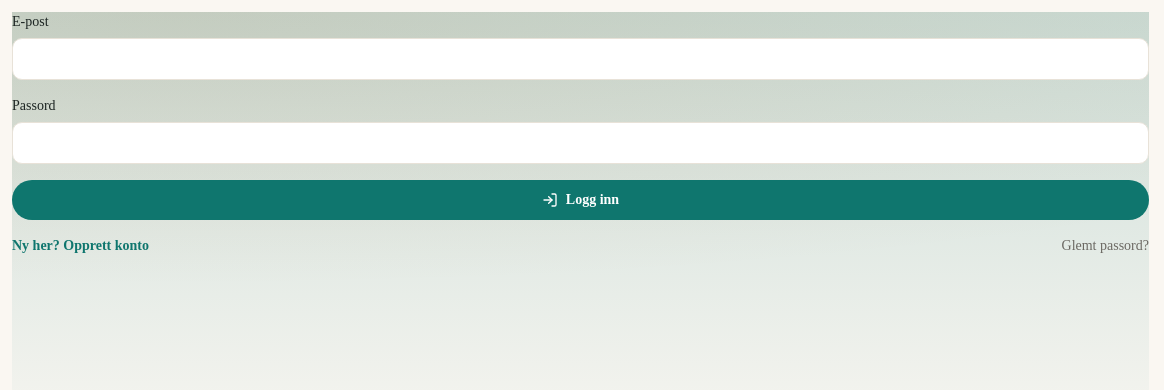
Test: EmailAuthForm › switches between signing in and signing up without losing the page
Expected: the button "Logg inn" is shown, x1=12 y1=180 x2=1149 y2=220
Click the button "Ny her? Opprett konto".
click(80, 246)  # box x1=12 y1=236 x2=149 y2=256
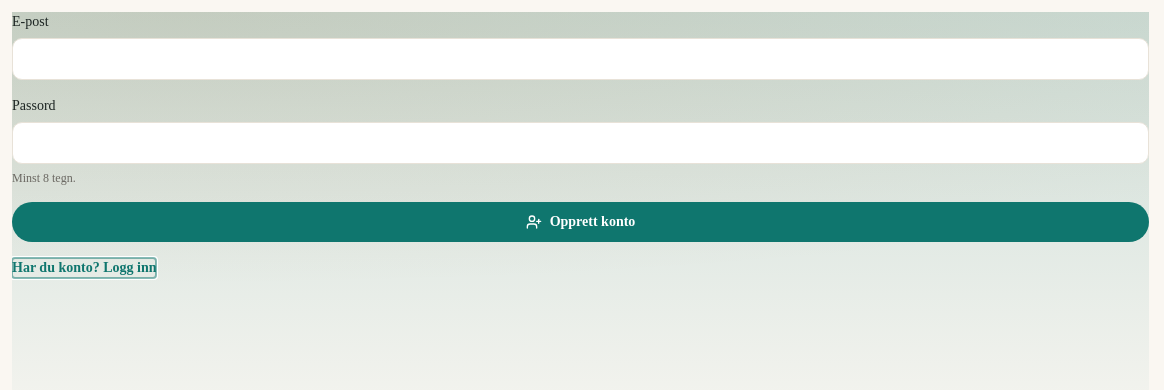
Result: the button "Opprett konto" is shown at x1=12 y1=202 x2=1149 y2=242
Result: the text "Minst 8 tegn." is shown at x1=12 y1=171 x2=76 y2=185
